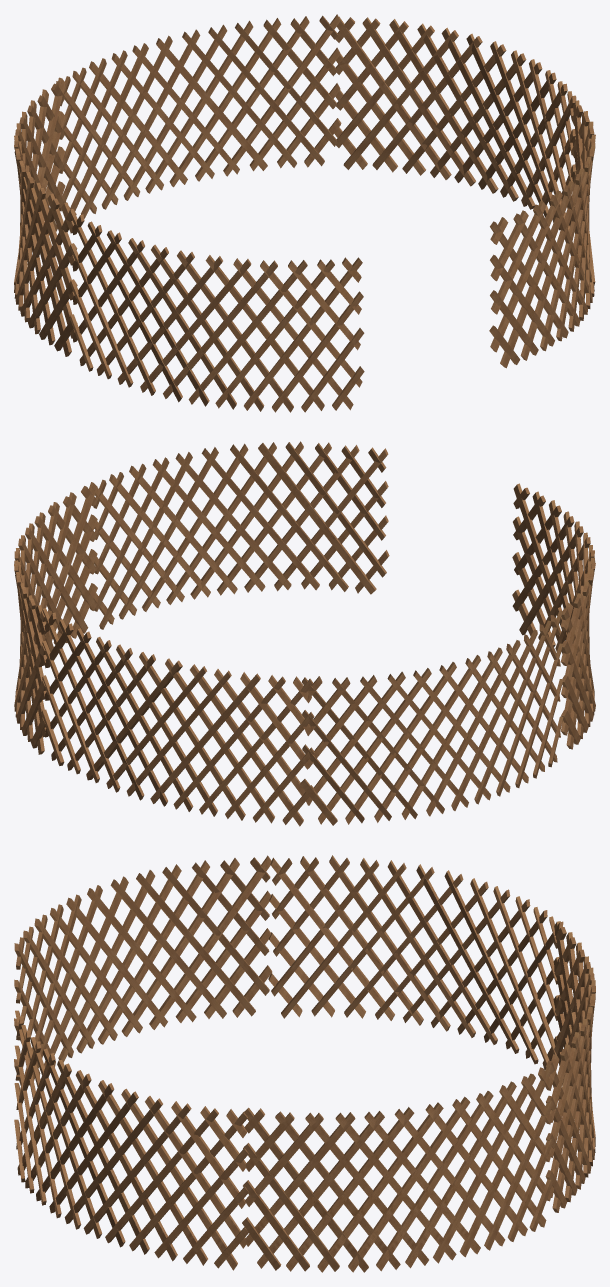
Rendered from hana.glb.
3 views of the same model, one above another, from view 1: azimuth 30°, elevation 25°; view 2: azimuth 150°, elevation 25°; view 3: azimuth 270°, elevation 25° (orthographic). The views are drawn at different scales.
Parts seen in each view (by area): view 1: pasted__polySurface25, pasted__pCube125, pasted__pCube123, pasted__pCube124, pasted__pCube121; view 2: pasted__pCube124, pasted__pCube125, pasted__pCube121, pasted__polySurface25, pasted__pCube123; view 3: pasted__pCube123, pasted__polySurface25, pasted__pCube121, pasted__pCube124, pasted__pCube125.
Boxes of the visible parts, left/top/right/bottom form: pasted__polySurface25: left=70, top=210, right=364, bottom=412; pasted__pCube125: left=56, top=14, right=341, bottom=220; pasted__pCube123: left=334, top=16, right=576, bottom=231; pasted__pCube124: left=489, top=100, right=595, bottom=368; pasted__pCube121: left=14, top=77, right=77, bottom=356; pasted__pCube124: left=93, top=441, right=389, bottom=629; pasted__pCube125: left=41, top=608, right=314, bottom=826; pasted__pCube121: left=300, top=610, right=563, bottom=825; pasted__polySurface25: left=512, top=483, right=595, bottom=749; pasted__pCube123: left=14, top=482, right=97, bottom=754; pasted__pCube123: left=242, top=1064, right=553, bottom=1272; pasted__polySurface25: left=14, top=855, right=272, bottom=1091; pasted__pCube121: left=268, top=855, right=563, bottom=1069; pasted__pCube124: left=14, top=1010, right=248, bottom=1270; pasted__pCube125: left=545, top=921, right=595, bottom=1212.
Size of the model in its own units: 26.01 by 7.63 by 24.59.
Materials: 1 (1 with a texture image).
